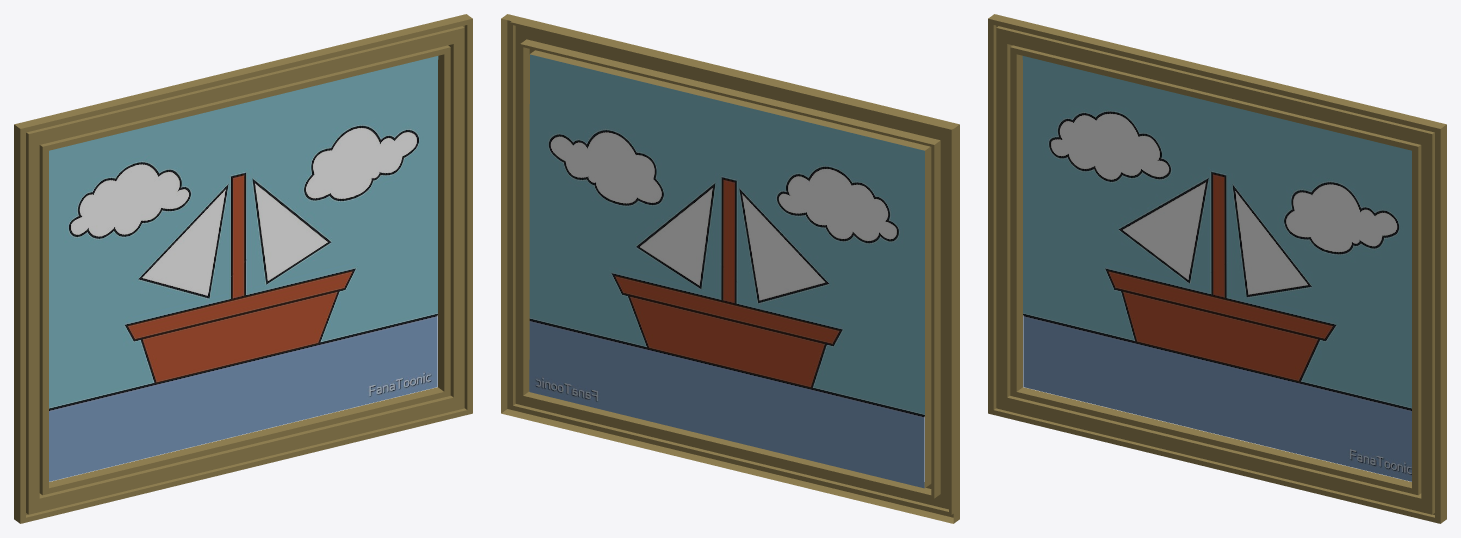
File: Cuadro_Horizontal.fbx
The picture shows the model from 3 angles, left to right: view 1: azimuth 30°, elevation 25°; view 2: azimuth 150°, elevation 25°; view 3: azimuth 330°, elevation 25°; orthographic projection.
Visible parts, largest first — view 1: pCube3; view 2: pCube3; view 3: pCube3.
Boxes of the visible parts, box(x1,y1,x2,y2) form: pCube3: box(14, 14, 472, 523); pCube3: box(501, 14, 959, 523); pCube3: box(988, 14, 1446, 523).
Size of the model in its own units: 7.52 by 6.27 by 0.1895.
